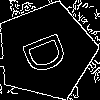D: (21, 26, 78, 78)
